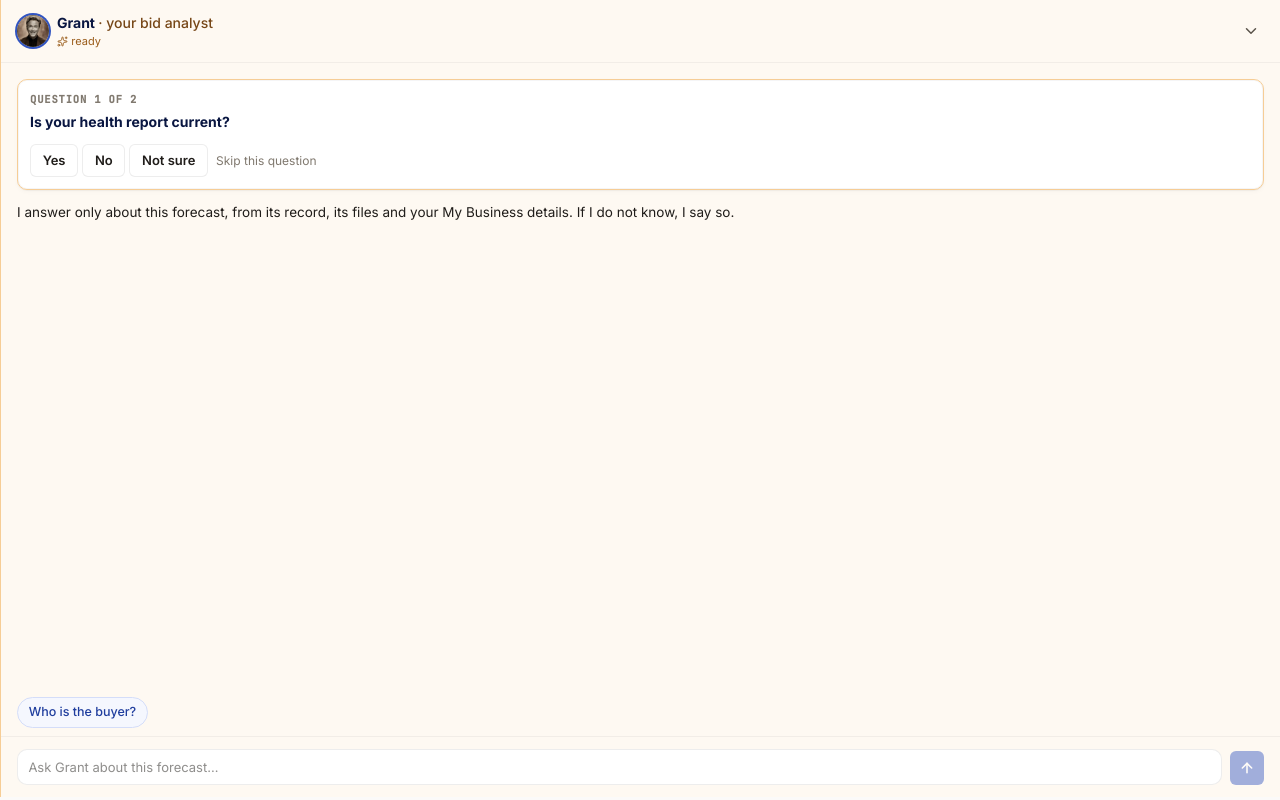
ForecastGrantRail — questions › skips a question without an answer and asks the next one
Click the button "Skip this question".
click(266, 161)  # box [216,152,317,170]
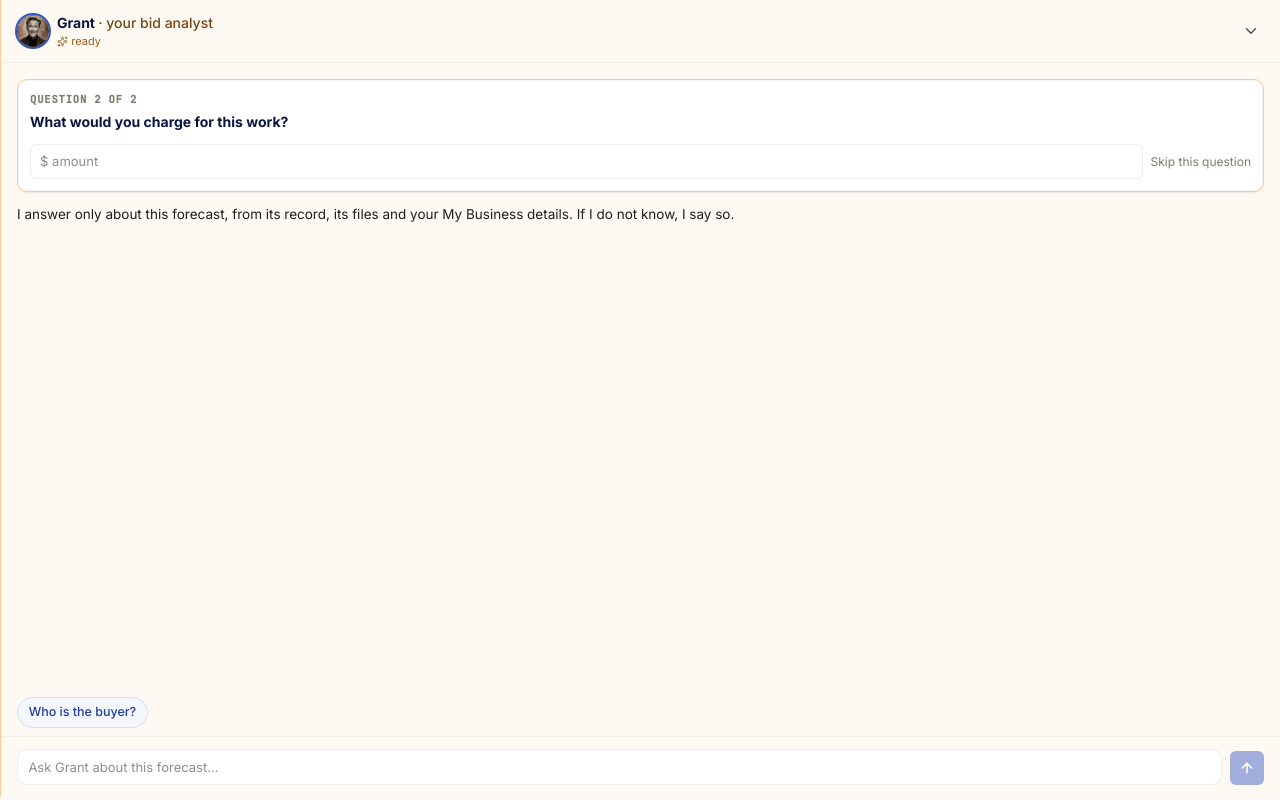
Check: the element "What would you charge for this work?" is shown, box [17,78,1264,192]
